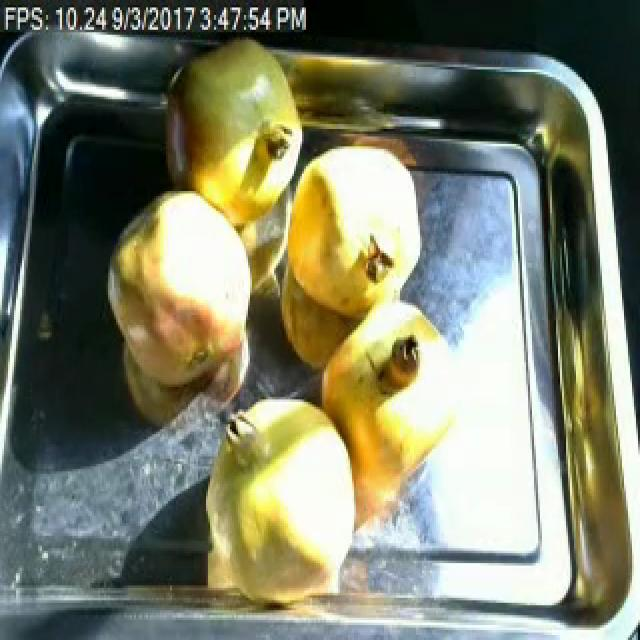fruit: (190, 385, 372, 620), (98, 179, 262, 404), (306, 285, 470, 484), (152, 32, 310, 238), (280, 134, 428, 322)
